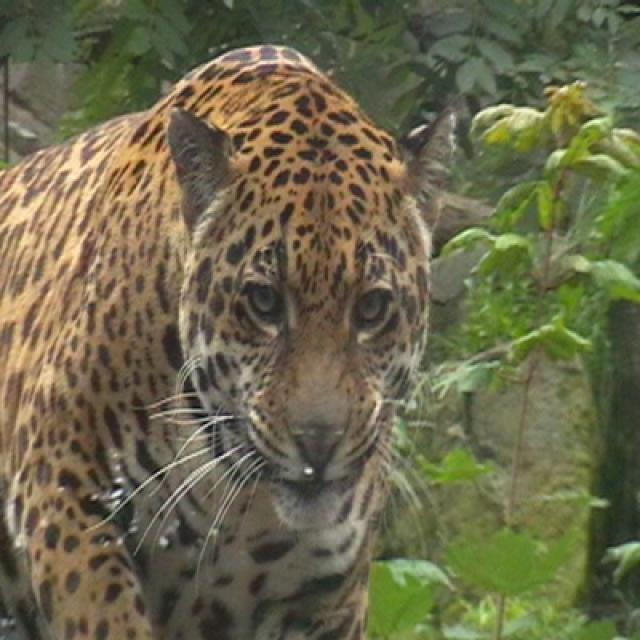Jaguar: (0, 45, 430, 638)
